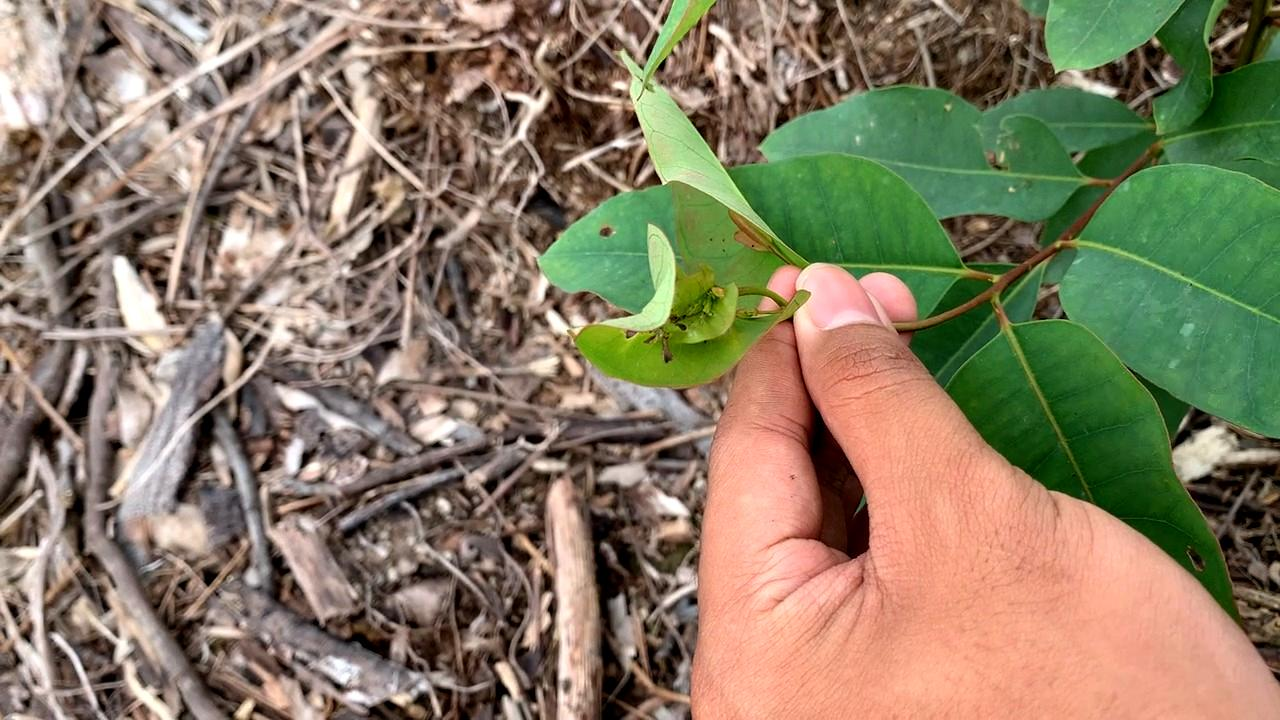Leaf Roller - Leaf: (561, 228, 815, 401)
